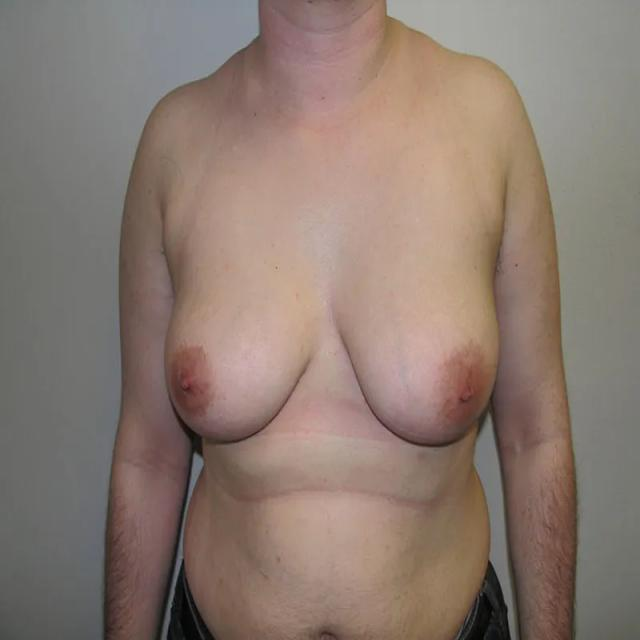Seno ileso: (332, 215, 505, 463), (160, 216, 324, 464)
